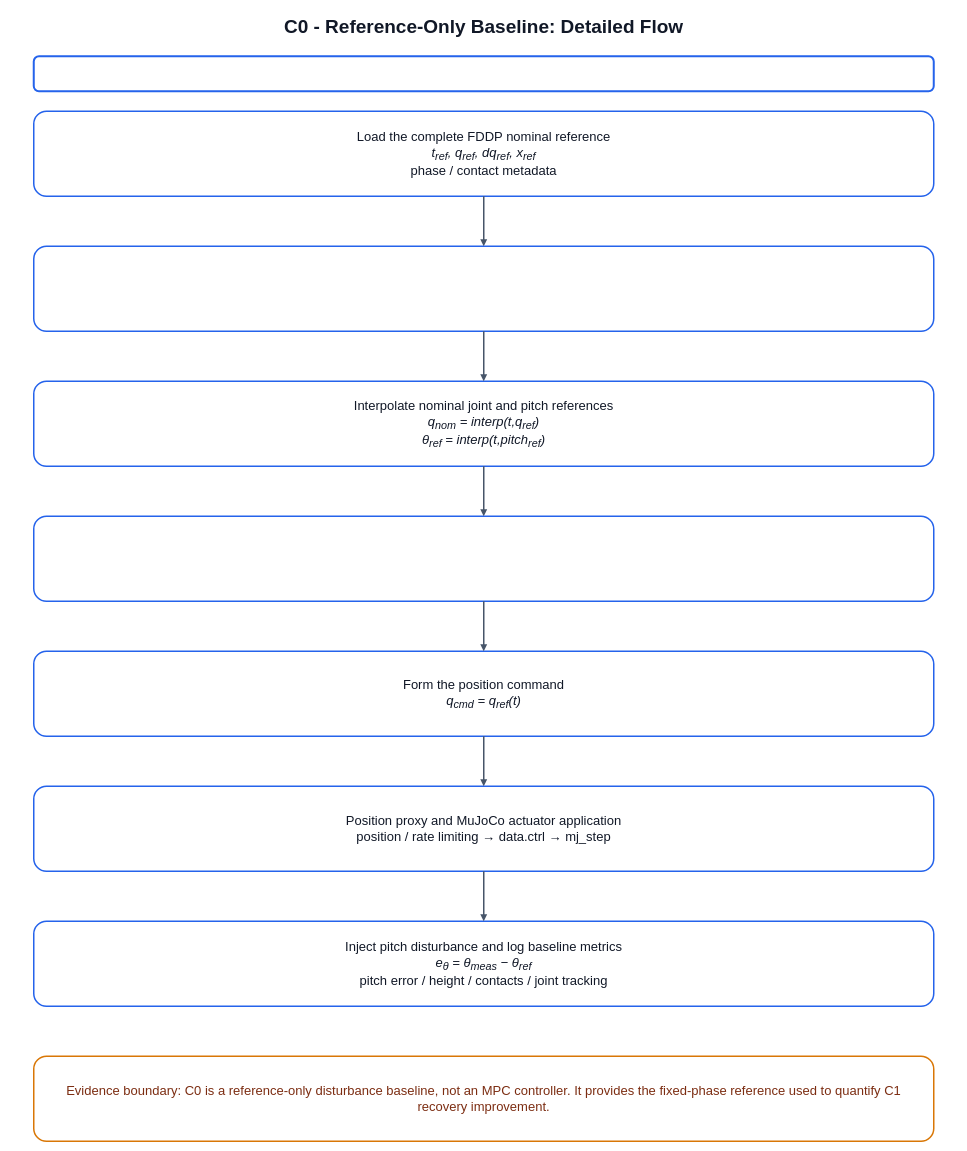
The diagram is 967 pixels wide and 1151 high, and some of its shapes have lost their labels. Each missing label, with the centre of its shape:
"Apply no feedback correction α k = 0, Δq k = 0" goes at (x=483, y=558).
"Fixed-Phase Nominal Reference Replay" goes at (x=483, y=73).
"Use the fixed reference clock t query = t no contact-event phase correction" goes at (x=483, y=288).
